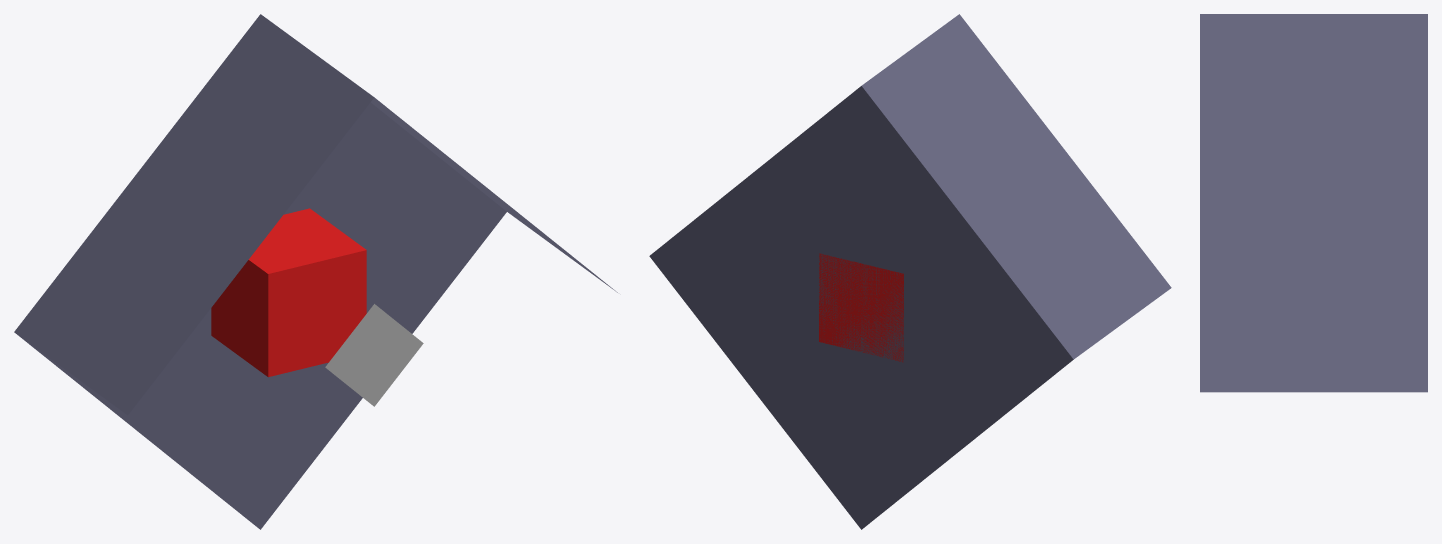
3 renders of one model, left to right at view 1: azimuth 30°, elevation 25°; view 2: azimuth 150°, elevation 25°; view 3: azimuth 270°, elevation 25°, orthographic. The views are drawn at different scales.
Visible parts, largest first — view 1: Plane2, Plane1, Cube, Ls, Plane3; view 2: Plane1, Plane2, Cube; view 3: Plane3.
Part boxes in pixels (left/top/right/bottom): Plane2: left=14, top=14, right=374, bottom=415; Plane1: left=17, top=102, right=506, bottom=529; Cube: left=211, top=208, right=366, bottom=377; Ls: left=325, top=304, right=423, bottom=406; Plane3: left=371, top=97, right=617, bottom=292; Plane1: left=649, top=86, right=1073, bottom=529; Plane2: left=862, top=14, right=1171, bottom=359; Cube: left=819, top=253, right=903, bottom=362; Plane3: left=1200, top=14, right=1427, bottom=392.
Bounding box in the file's own units: 10 × 10 × 4.
